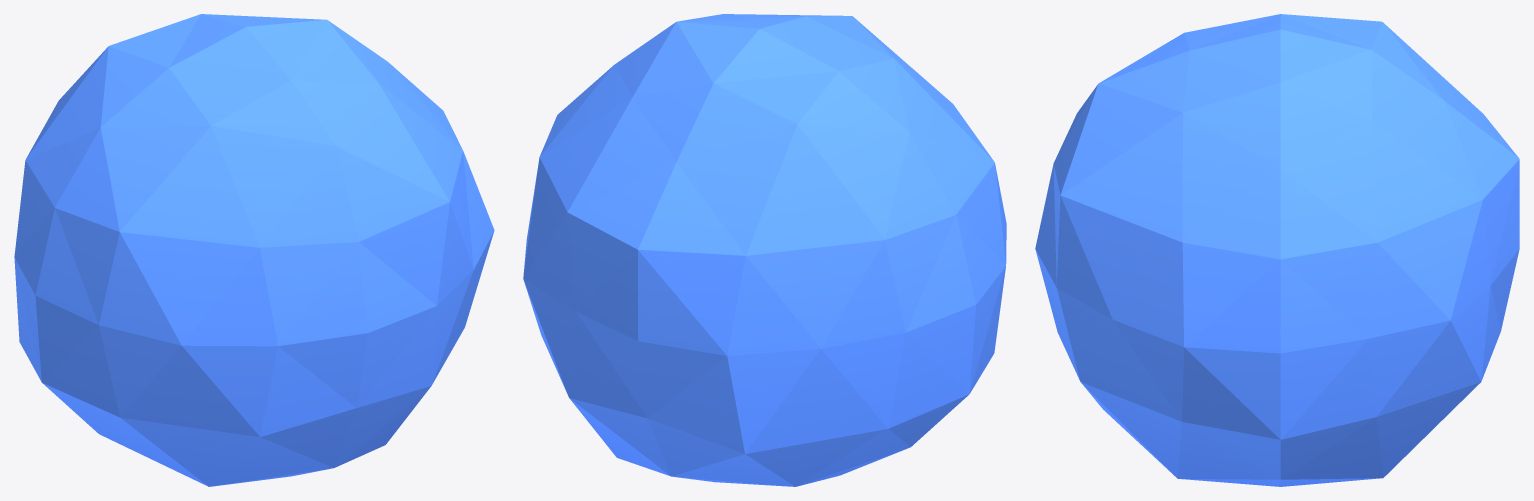
Rendered from northwind.glb.
The picture shows the model from 3 angles, left to right: view 1: azimuth 30°, elevation 25°; view 2: azimuth 150°, elevation 25°; view 3: azimuth 270°, elevation 25°; orthographic projection. The views are drawn at different scales.
Parts seen in each view (by area): view 1: outer_northwind; view 2: outer_northwind; view 3: outer_northwind.
Part boxes in pixels (left/top/right/bottom): outer_northwind: left=14, top=14, right=494, bottom=486; outer_northwind: left=523, top=14, right=1006, bottom=486; outer_northwind: left=1035, top=14, right=1519, bottom=486.
Bounding box in the file's own units: 5.47 × 5.47 × 5.37.
